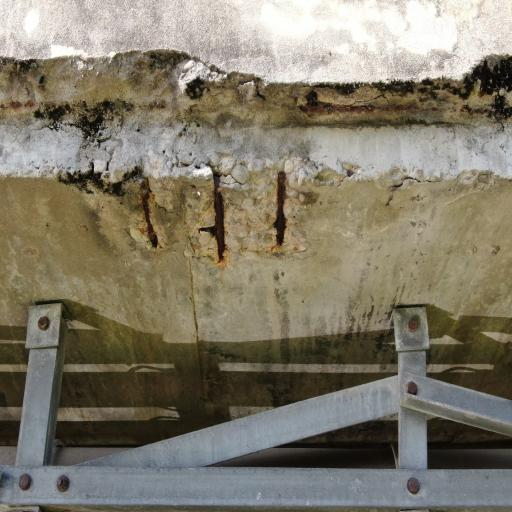exposed_rebar: (141, 178, 158, 247), (214, 176, 226, 261), (274, 172, 286, 244)
